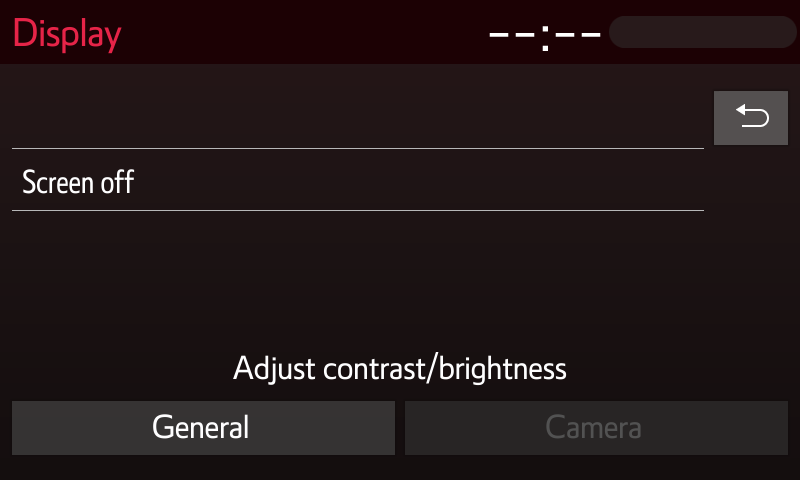touchPart: (10, 397, 399, 456), (710, 87, 794, 151)
untouchPart: (409, 399, 789, 457), (214, 345, 573, 390), (471, 14, 795, 51), (14, 14, 126, 55)
